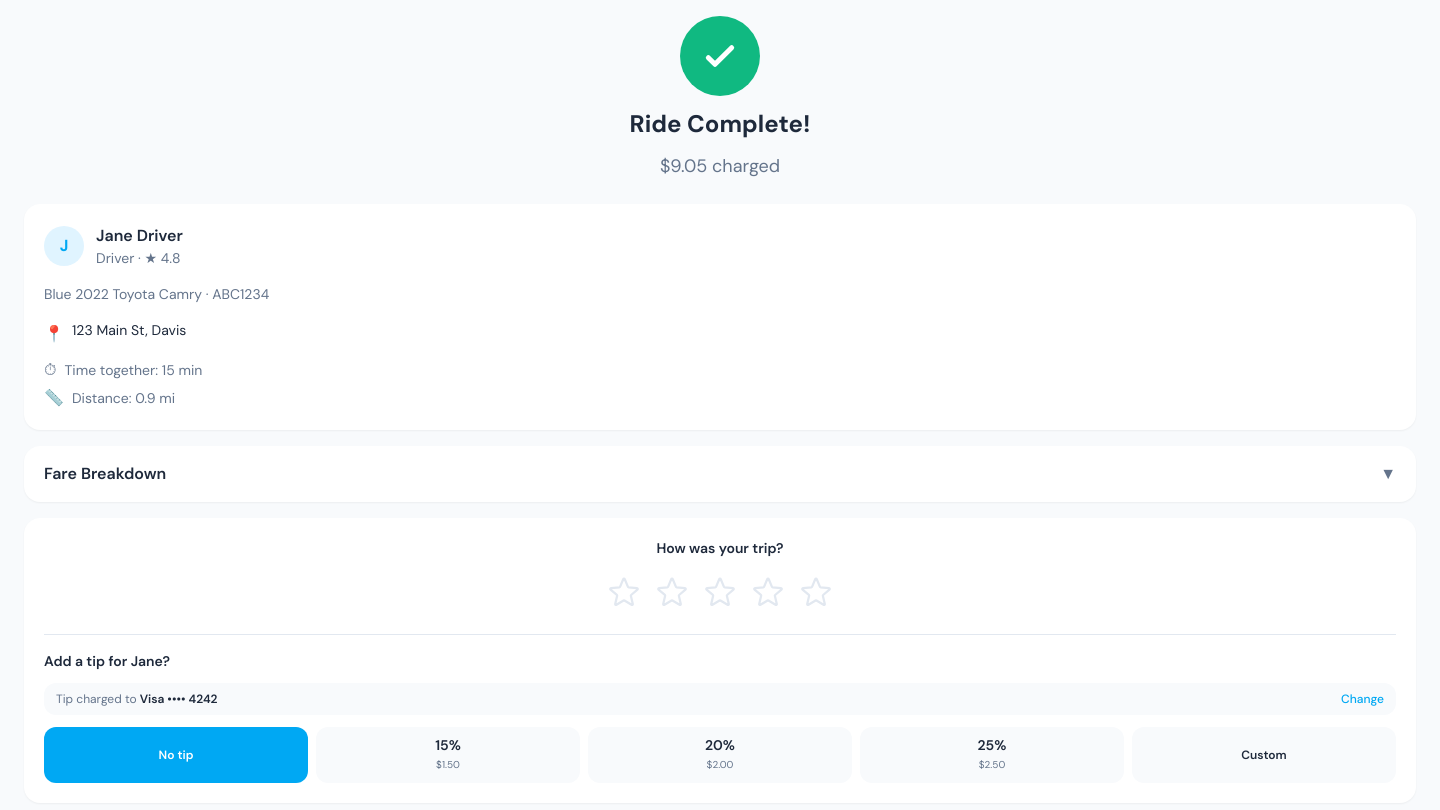
RideSummaryPage › Rider view › allows tip-only submit (rider sends a tip without rating)
Expected: the element with test id "tip-picker" is shown, x1=44 y1=634 x2=1396 y2=783
Click the button with test id "tip-20%".
click(720, 755)  # box x1=588 y1=727 x2=852 y2=783
(page scrolled)
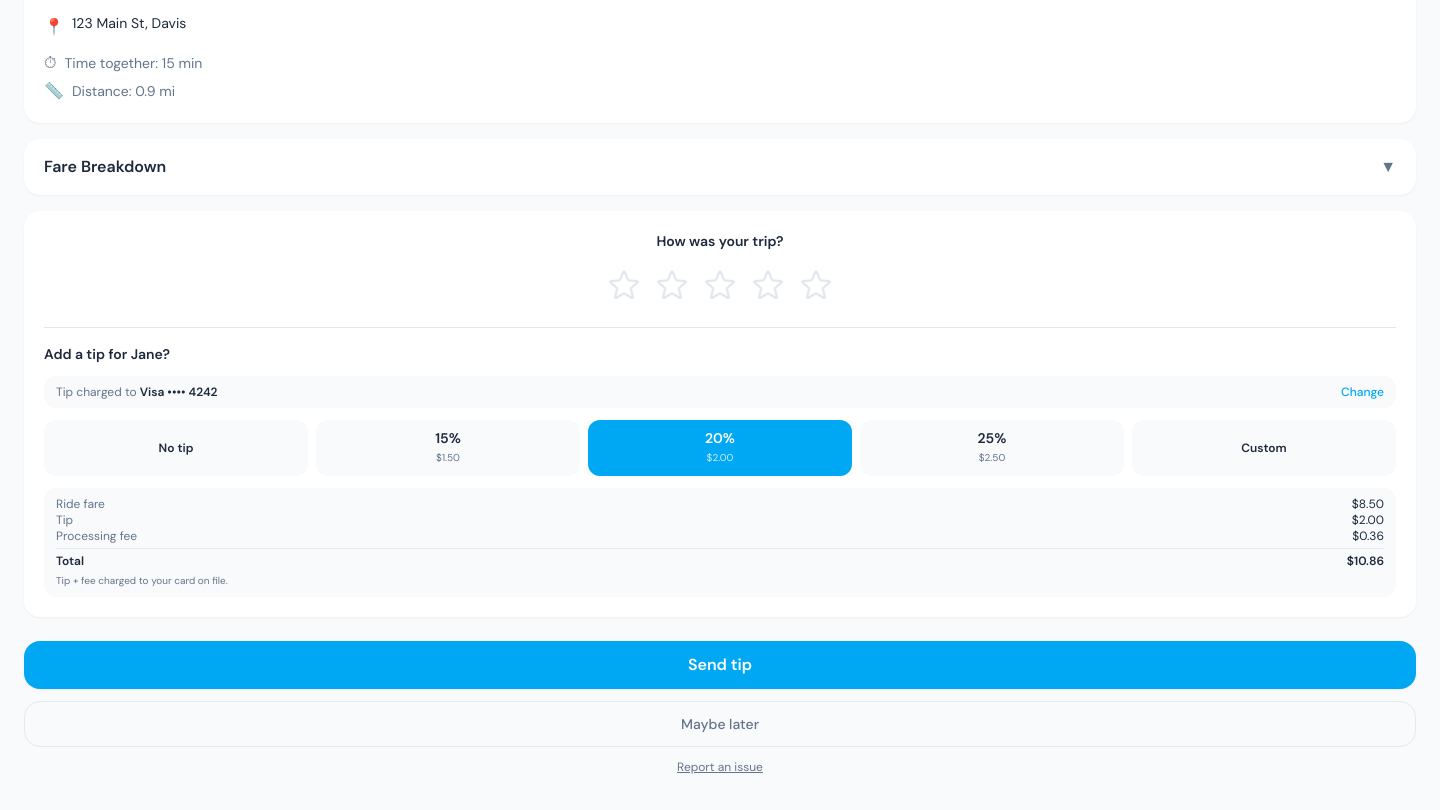
Expected: the button with test id "submit-rating" is enabled
Expected: the button with test id "submit-rating" reads "Send tip"
Click the button with test id "submit-rating".
click(720, 665)  # box x1=24 y1=641 x2=1416 y2=689
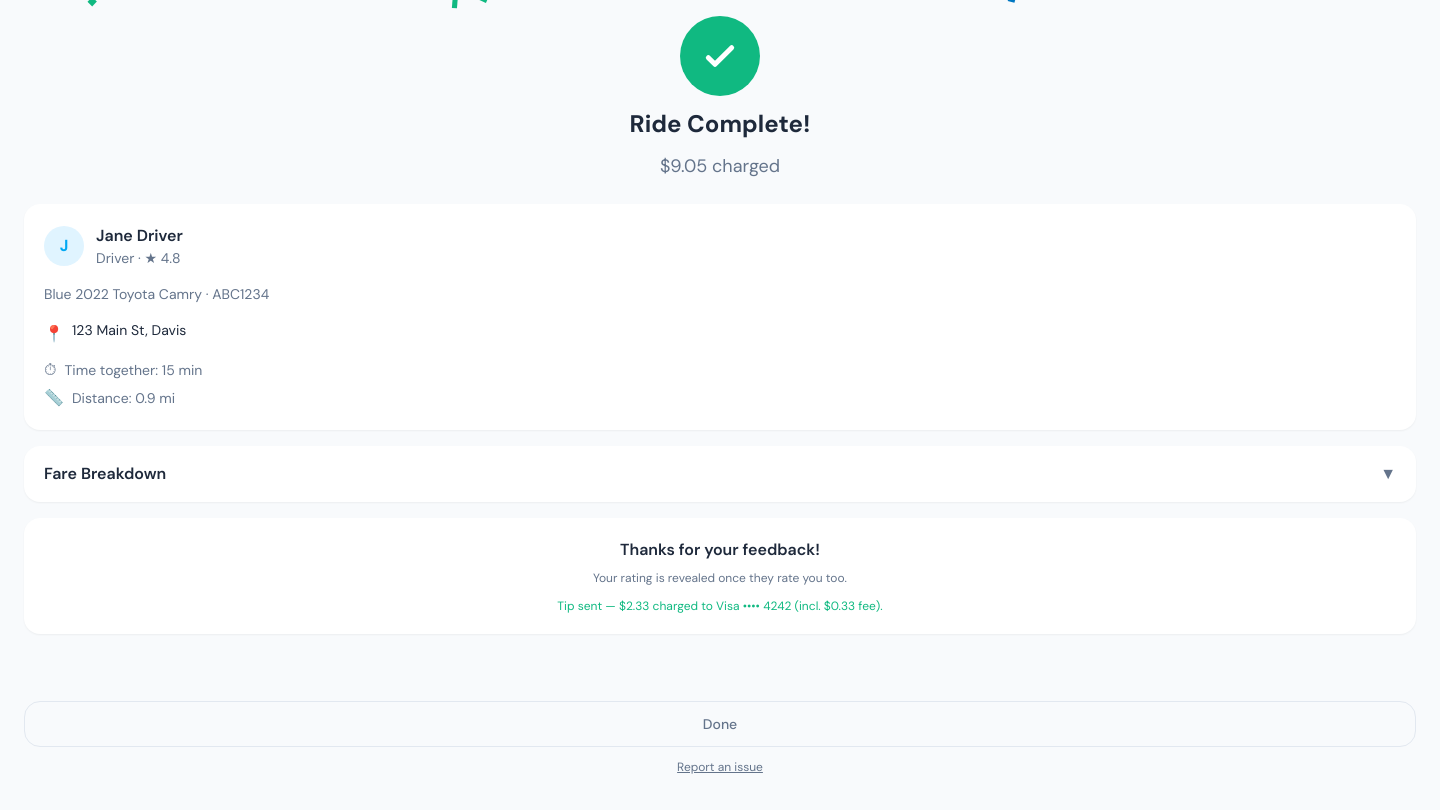
Expected: the element with test id "rate-submitted" is shown, x1=557 y1=539 x2=883 y2=614
